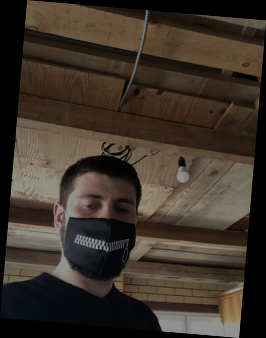with_mask: (65, 188, 136, 274)
